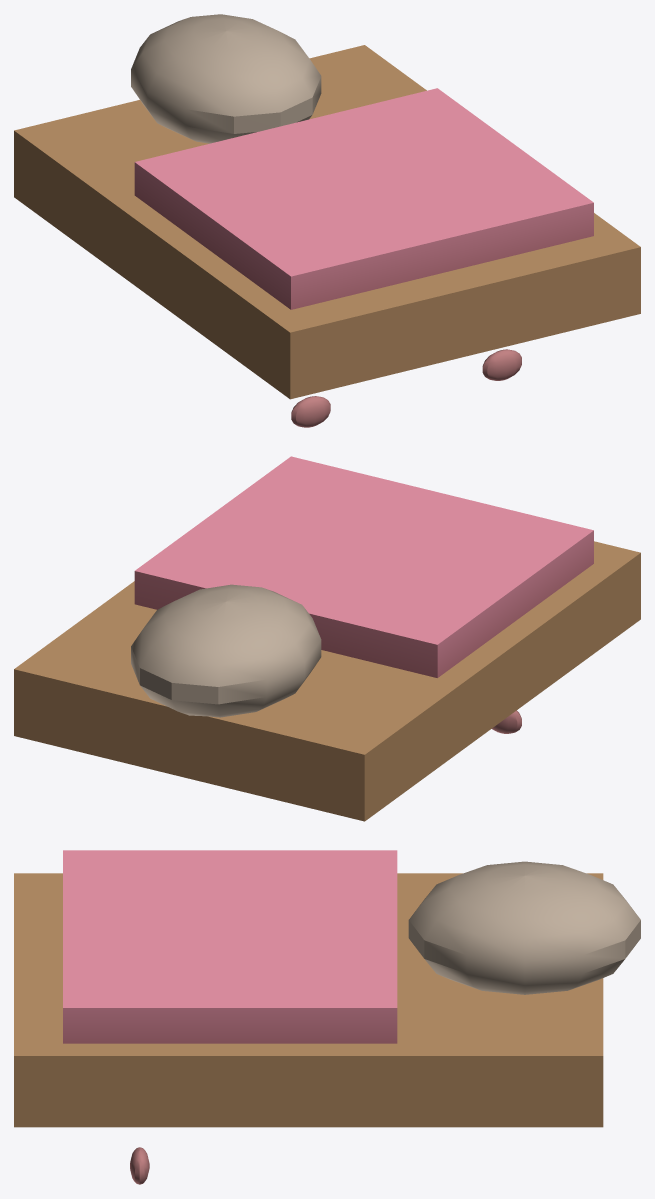
3 renders of one model, top to bottom at view 1: azimuth 30°, elevation 25°; view 2: azimuth 150°, elevation 25°; view 3: azimuth 270°, elevation 25°, orthographic. The views are drawn at different scales.
Parts seen in each view (by area): view 1: pet_p46002de3; view 2: pet_p46002de3; view 3: pet_p46002de3.
Boxes of the visible parts, <box> form: pet_p46002de3: <box>14,14,640,427</box>; pet_p46002de3: <box>14,456,640,821</box>; pet_p46002de3: <box>14,850,640,1184</box>.
Bounding box in the file's own units: 0.44 × 0.2876 × 0.6382.
